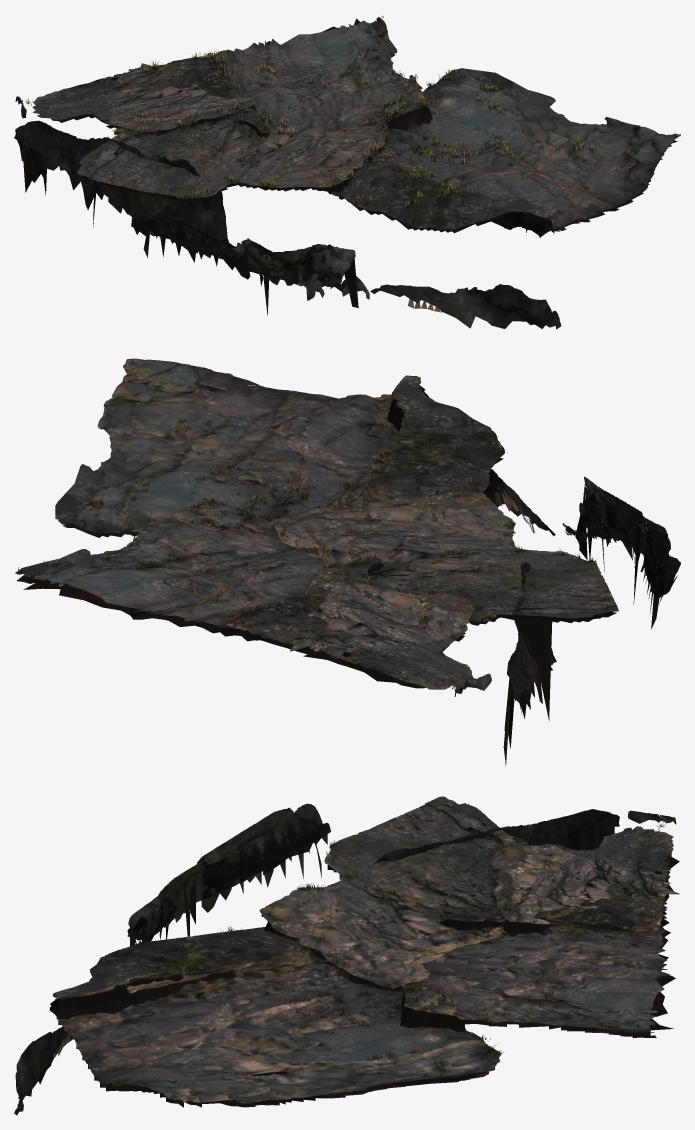
Rendered from cliff-phone.glb.
3 renders of one model, top to bottom at view 1: azimuth 30°, elevation 25°; view 2: azimuth 150°, elevation 25°; view 3: azimuth 270°, elevation 25°, orthographic. The views are drawn at different scales.
Visible parts, largest first — view 1: Cliff_Stone, Alpine grass, Fallen cherry petals; view 2: Cliff_Stone, Alpine grass, Fallen cherry petals; view 3: Cliff_Stone, Alpine grass, Fallen cherry petals.
Part boxes in pixels (x1,y1,x2,y2): Cliff_Stone: (14, 17, 680, 329); Alpine grass: (25, 16, 596, 227); Fallen cherry petals: (38, 24, 620, 208); Cliff_Stone: (15, 358, 680, 765); Alpine grass: (18, 416, 596, 689); Fallen cherry petals: (31, 395, 588, 685); Cliff_Stone: (14, 796, 679, 1115); Alpine grass: (127, 821, 666, 1082); Fallen cherry petals: (128, 823, 665, 1079).
Size of the model in its own units: 14.2 by 3.19 by 13.38.
2 materials, 1 textured.
